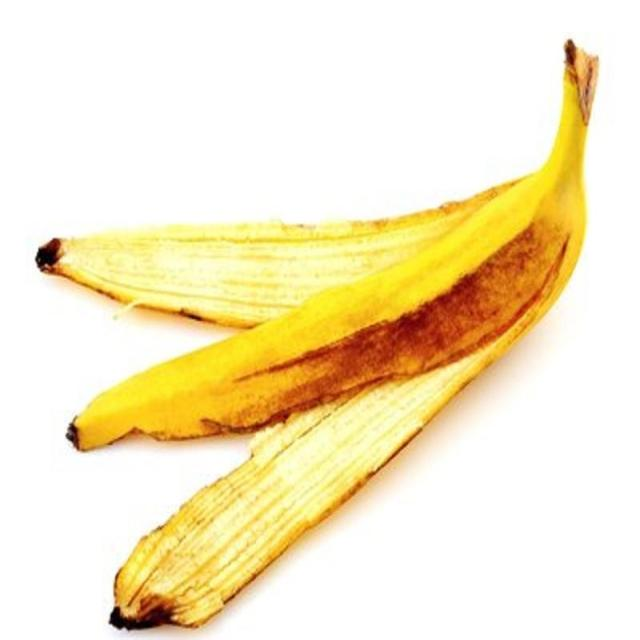Wet Waste: (34, 35, 603, 634)
